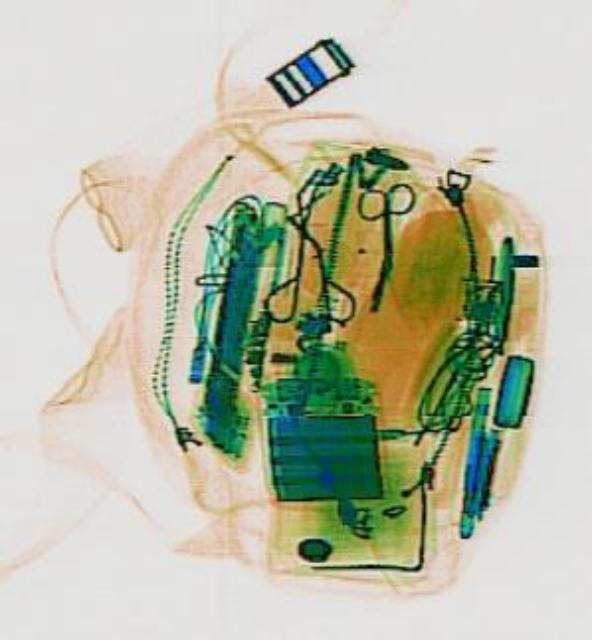Scissors: (354, 179, 414, 267)
